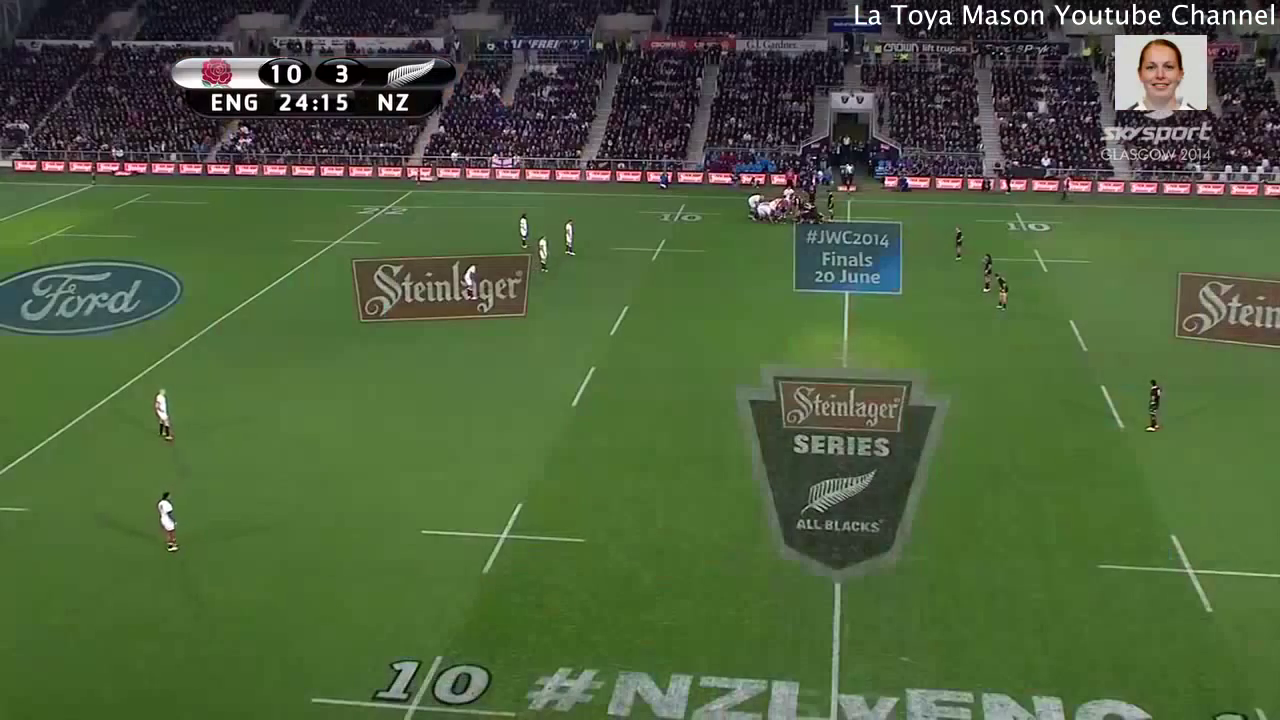10_metre: (1090, 530, 1280, 614), (303, 651, 519, 720), (419, 499, 592, 576), (985, 246, 1100, 275), (608, 237, 712, 263), (974, 210, 1068, 234), (636, 203, 723, 225)
player: (152, 485, 184, 564), (149, 379, 183, 453), (1137, 370, 1170, 441), (991, 269, 1010, 313), (949, 224, 969, 264), (979, 250, 994, 296), (746, 194, 765, 216), (824, 190, 837, 222), (781, 184, 795, 197)
scrum: (743, 188, 829, 226)
